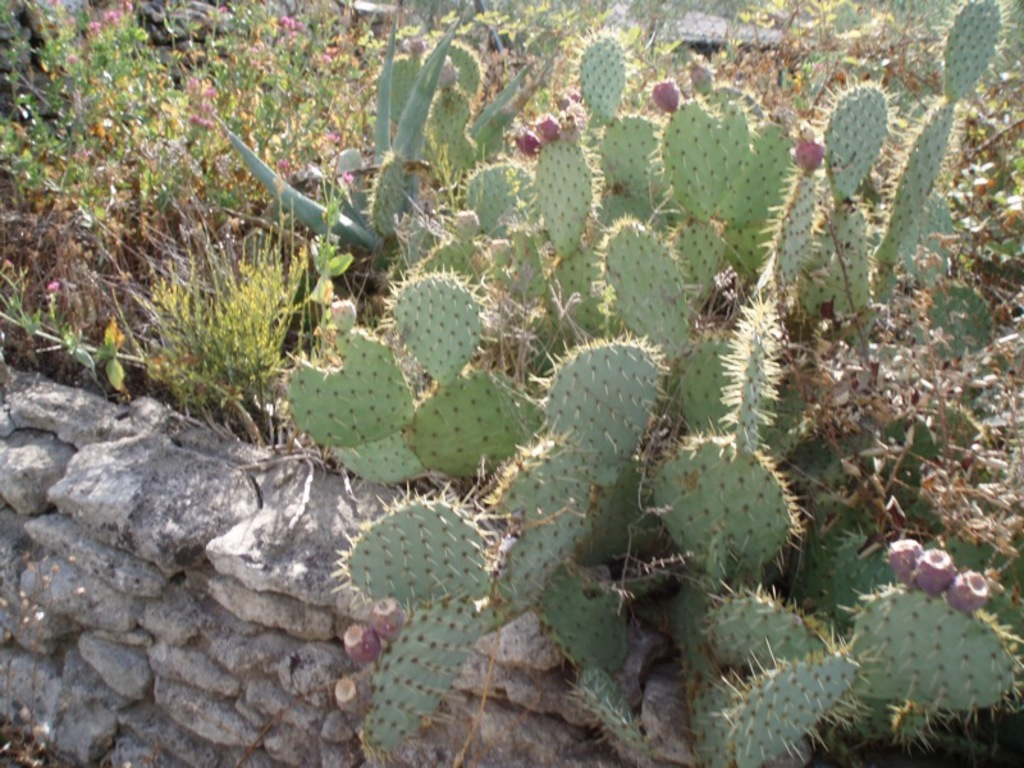person: (578, 112, 704, 372)
